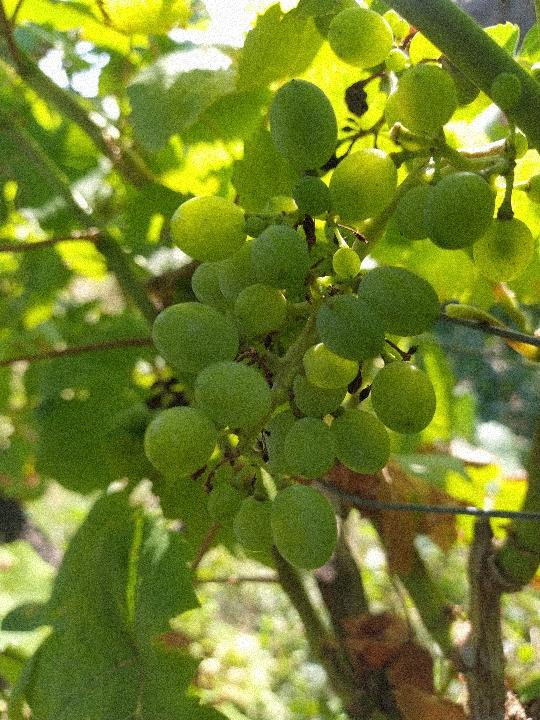grape: (139, 7, 533, 573)
